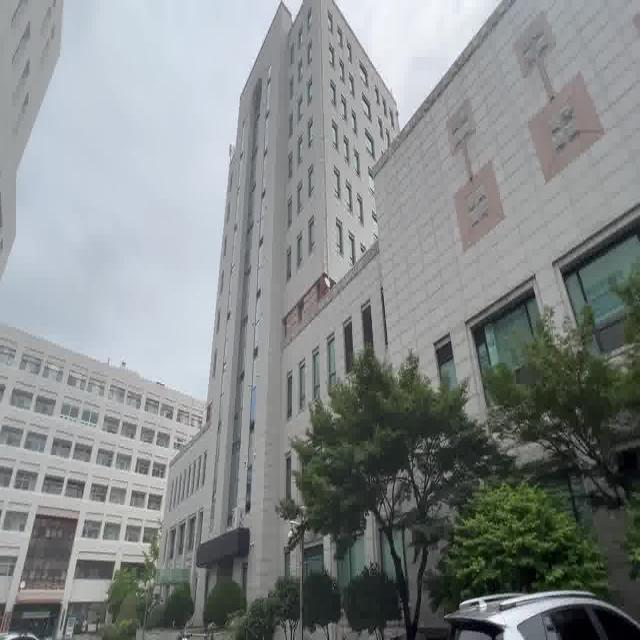building: (220, 3, 581, 373)
